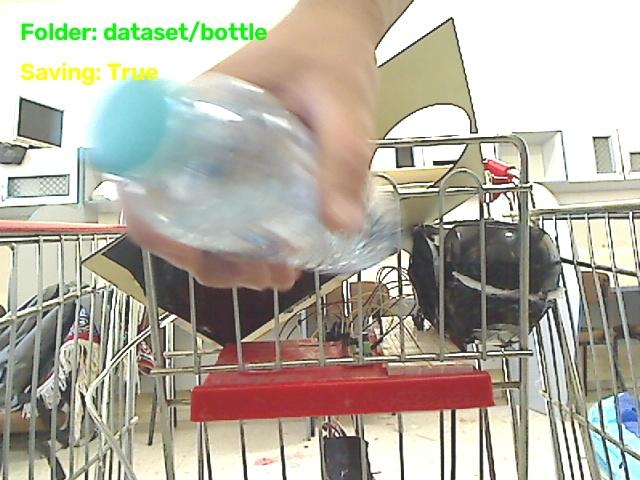Bottle: (94, 74, 399, 273)
